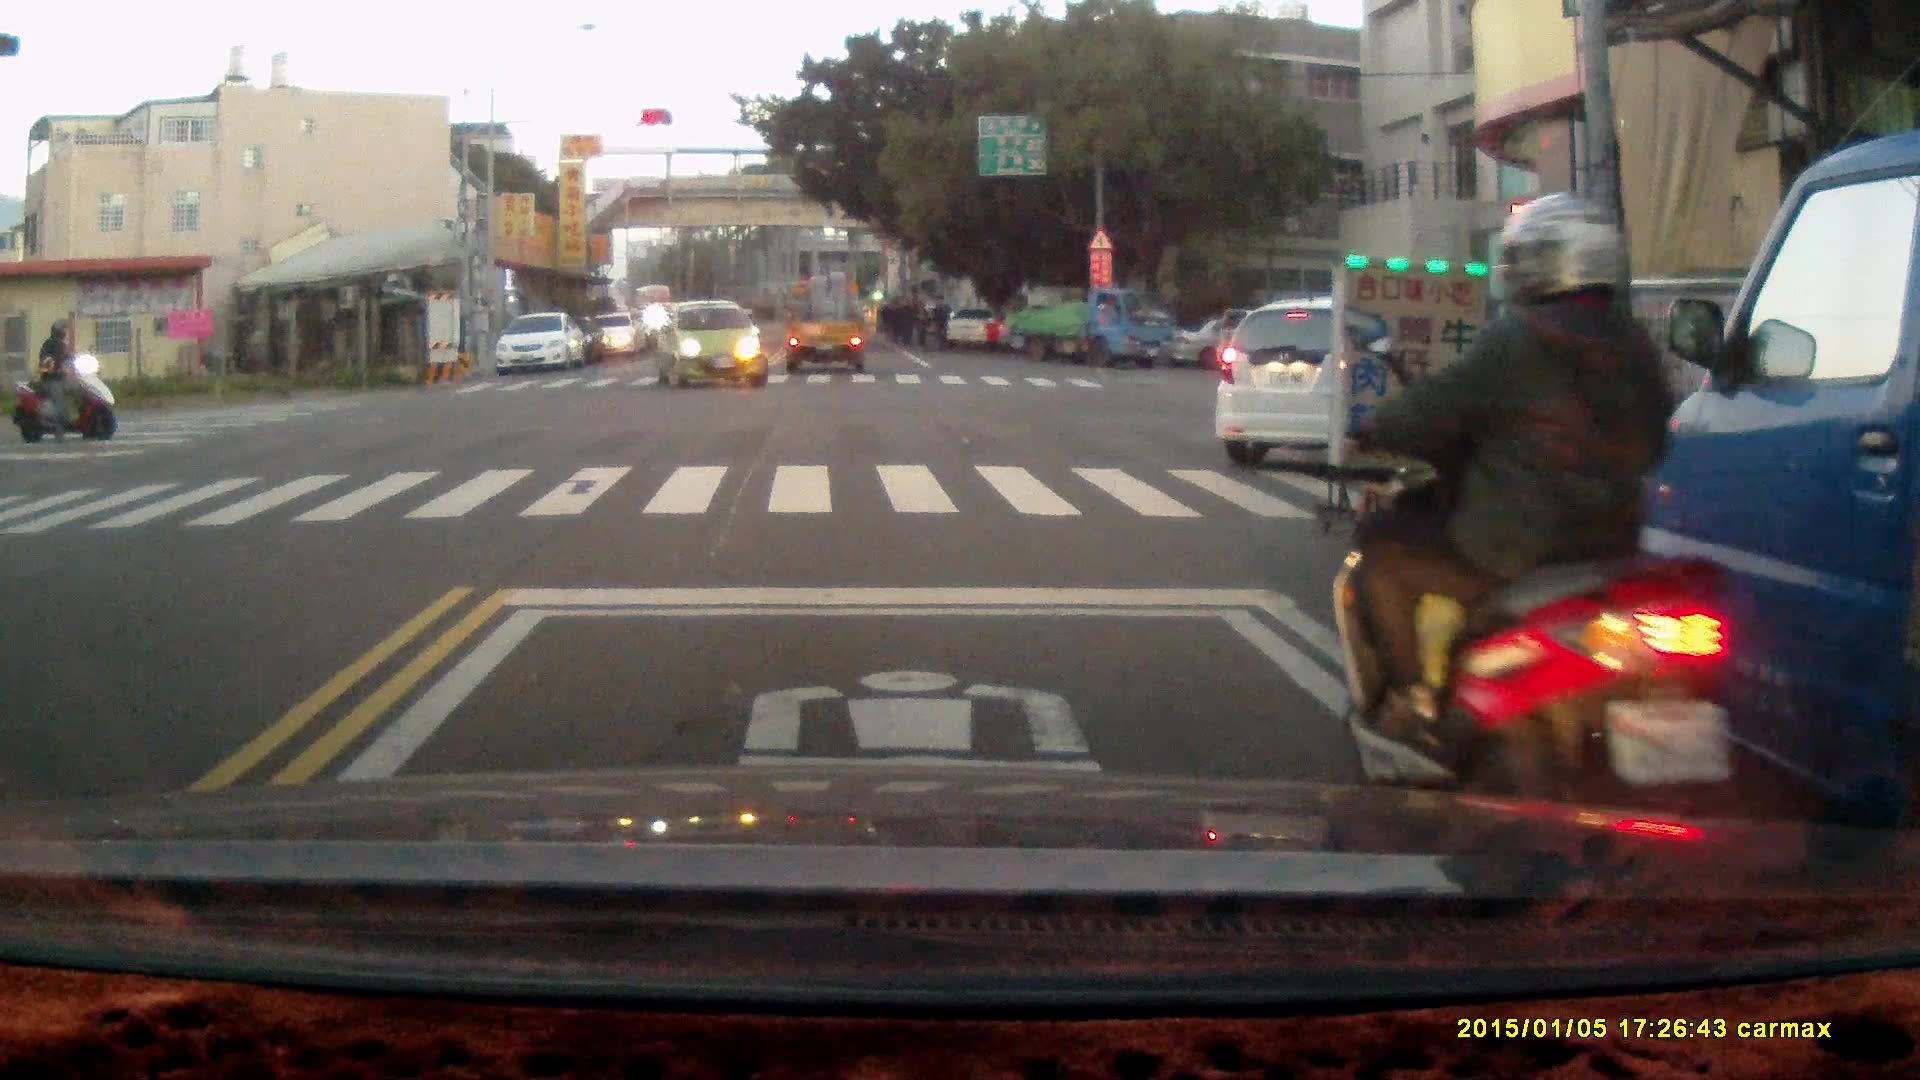rider: (1329, 191, 1740, 869), (10, 316, 119, 440)
vehicle: (1600, 132, 1920, 918), (1209, 294, 1521, 466), (1002, 284, 1175, 367), (662, 296, 773, 392), (785, 269, 870, 379), (498, 313, 587, 377), (592, 311, 642, 360)
